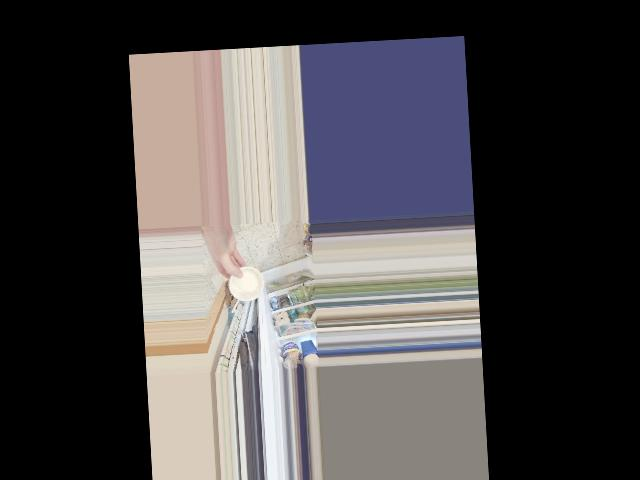cotage: (226, 266, 265, 304)
